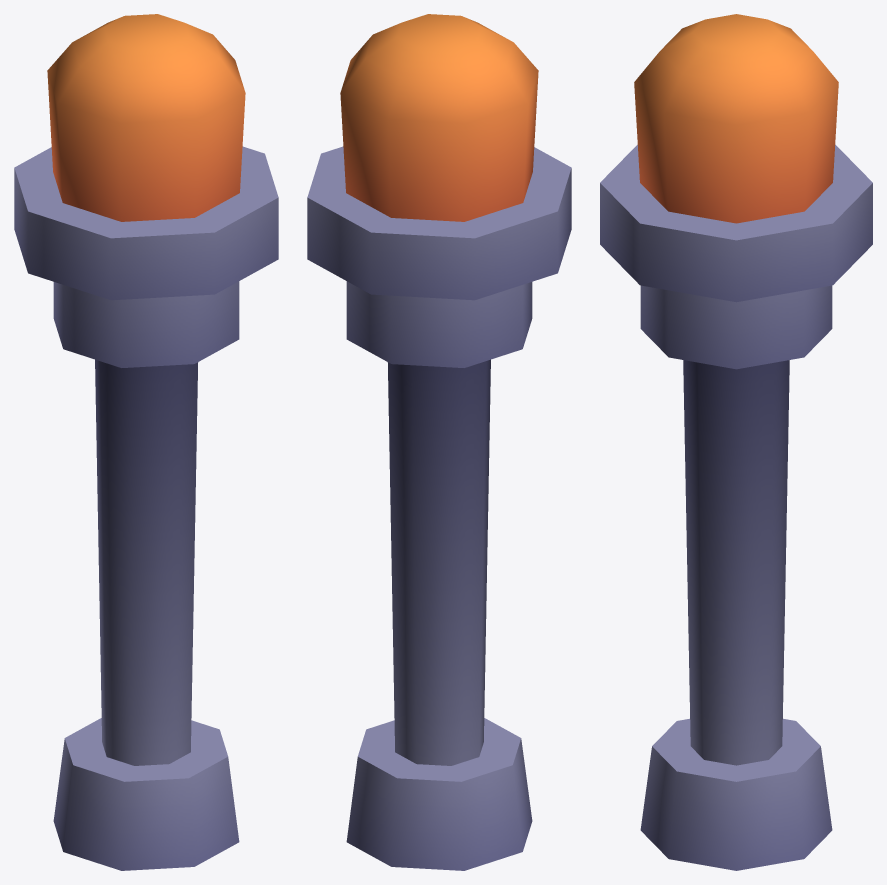
The model's file is warning_orange.glb.
3 renders of one model, left to right at view 1: azimuth 30°, elevation 25°; view 2: azimuth 150°, elevation 25°; view 3: azimuth 270°, elevation 25°, orthographic.
Parts seen in each view (by area): view 1: warning-orange; view 2: warning-orange; view 3: warning-orange.
Part boxes in pixels (box(x1,y1,x2,y2)): warning-orange: box(14, 14, 278, 870); warning-orange: box(307, 14, 571, 870); warning-orange: box(600, 14, 872, 870).
Size of the model in its own units: 0.4 by 1.29 by 0.4.
1 material, 1 textured.
